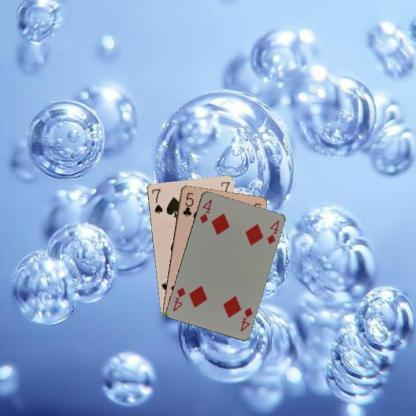4d: (237, 304, 254, 332), (197, 197, 213, 224)
5c: (180, 189, 194, 218)
7s: (149, 186, 164, 215)
